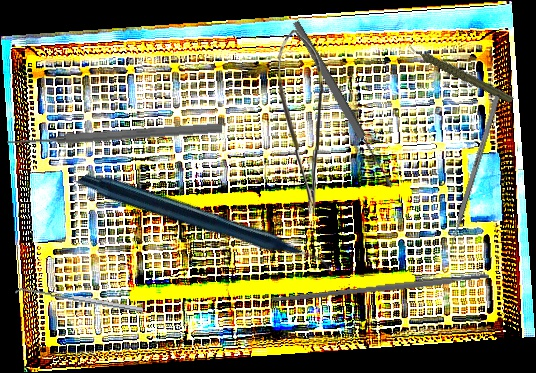Handpiece: (74, 89, 335, 363), (407, 22, 515, 123)
Micro Scissor: (273, 28, 325, 215)
Pusher: (444, 95, 501, 261), (6, 120, 223, 150)
Scalpel Handle: (271, 272, 490, 305)
Spatula Surgical: (14, 285, 144, 318)
Surgical Spoon: (290, 18, 396, 191)
